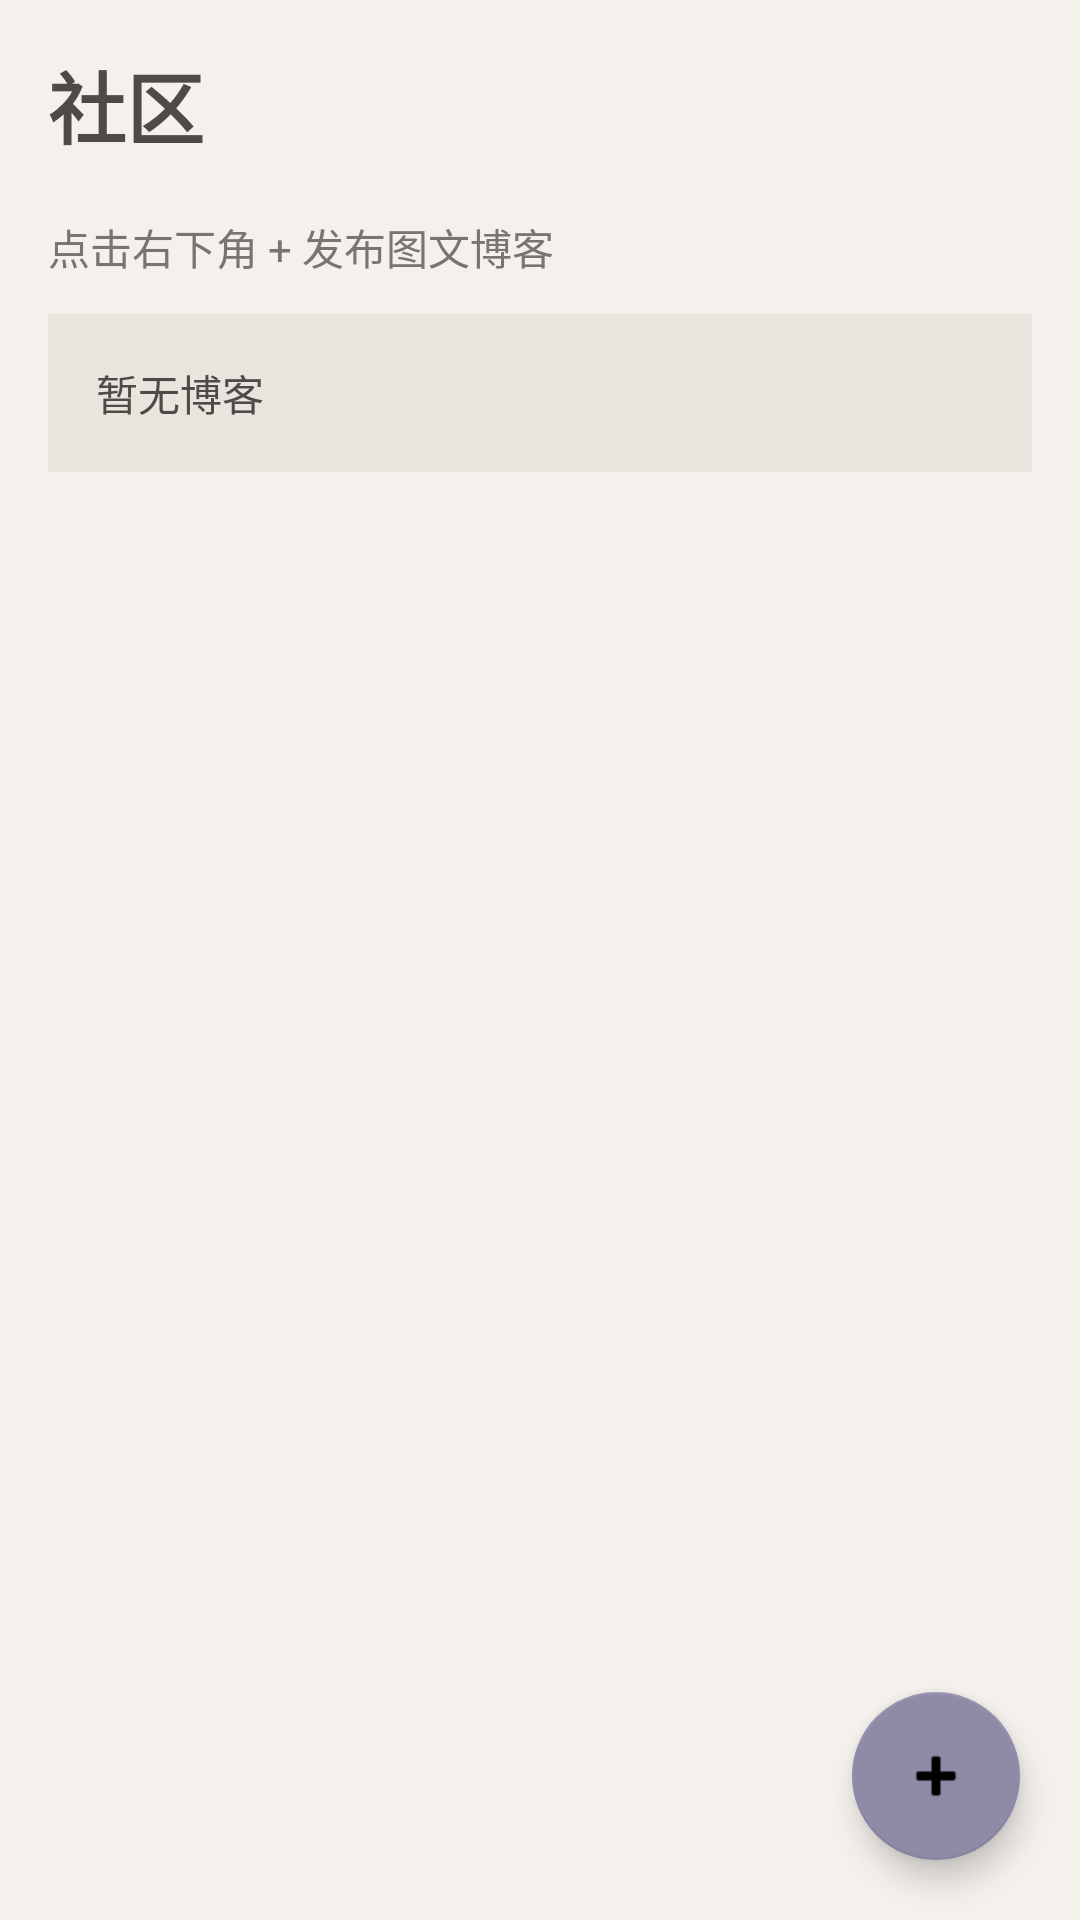

Named icons in this screenshot (1080*1920) and their bounding boxes, (x1, y1, x2, y2):
发布: (852, 1692, 1020, 1860)
